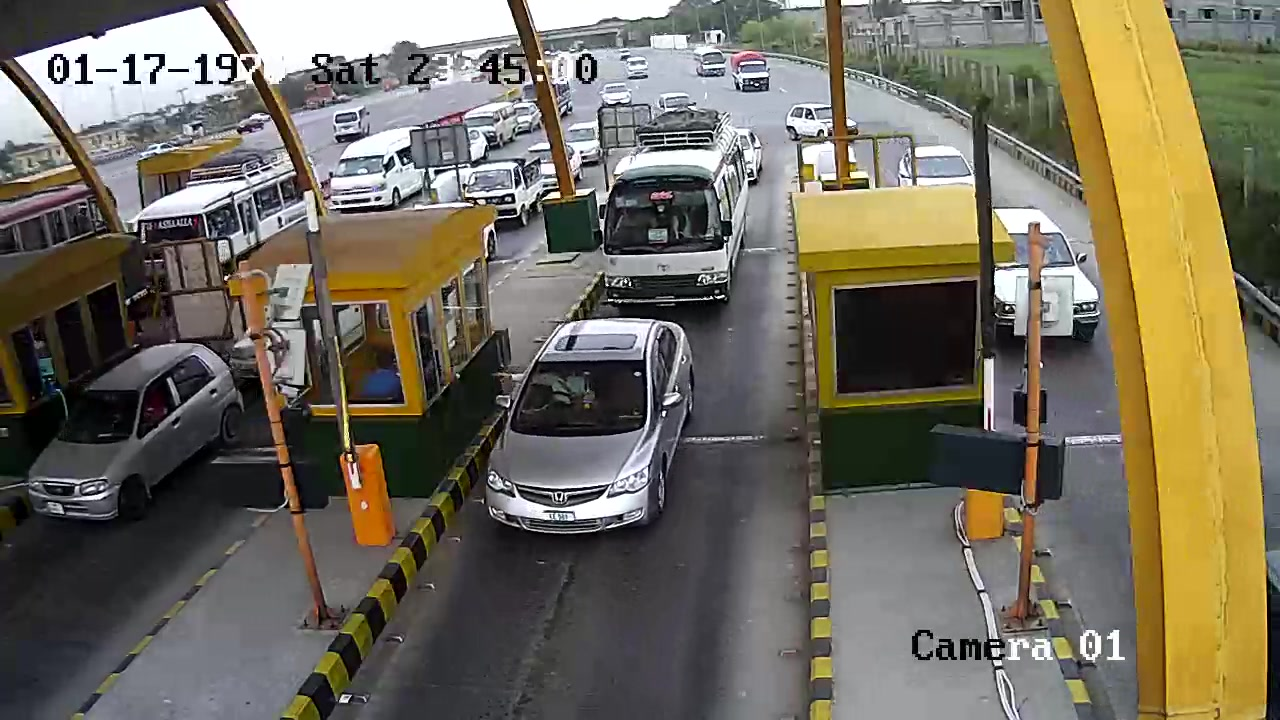F1: (482, 313, 700, 538)
F3: (592, 101, 753, 315)
